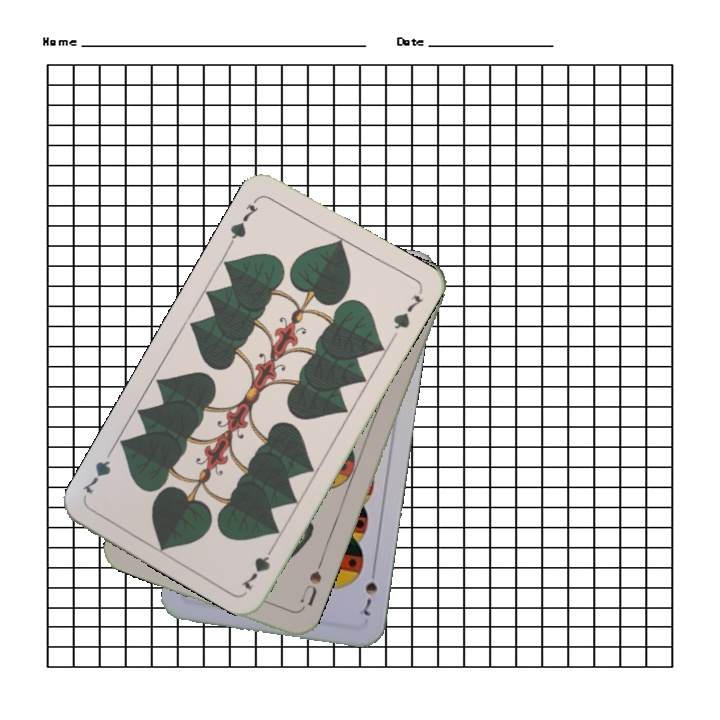G7: (237, 539, 279, 594), (225, 194, 261, 248)
S7: (358, 563, 380, 620)
SU: (296, 567, 324, 609)
